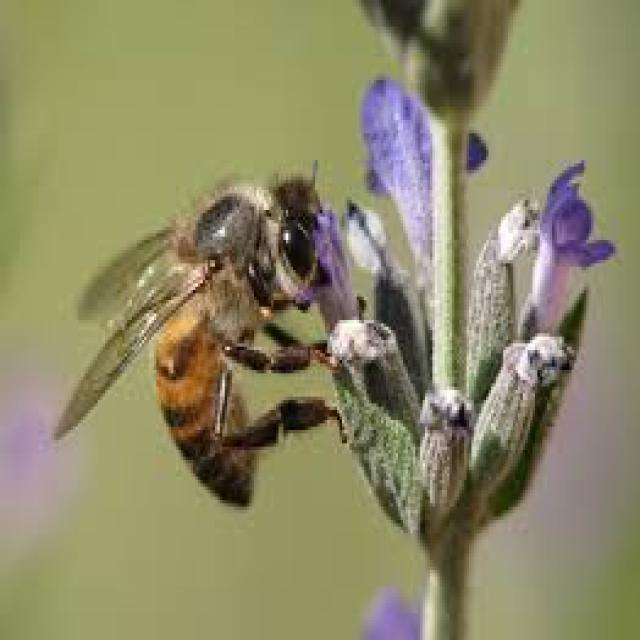Bees: (53, 158, 350, 514)
